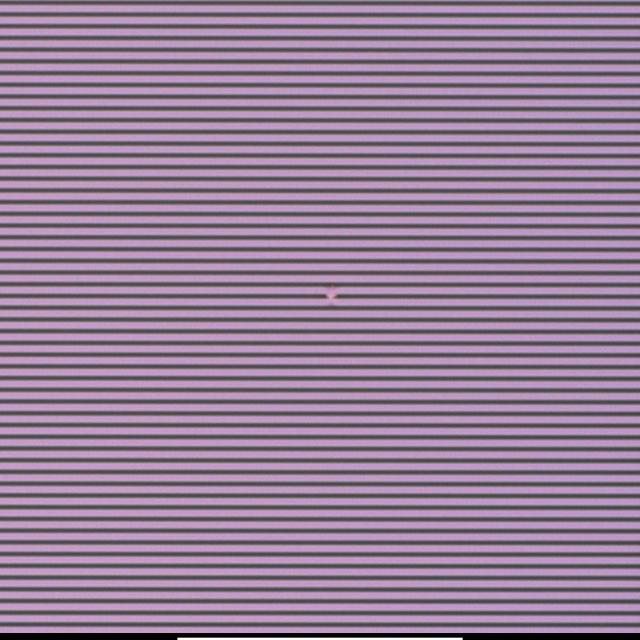03_intrusion: (323, 281, 341, 306)
